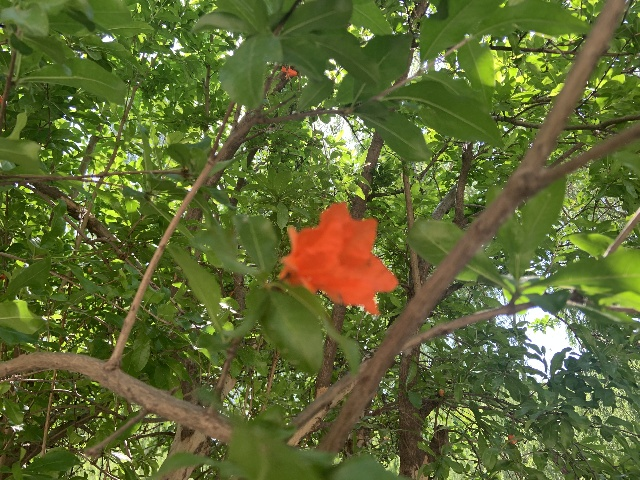bud: (507, 434, 517, 444), (439, 388, 444, 396), (87, 267, 92, 273)
flower: (280, 202, 397, 313), (280, 64, 297, 78), (0, 274, 5, 280)
